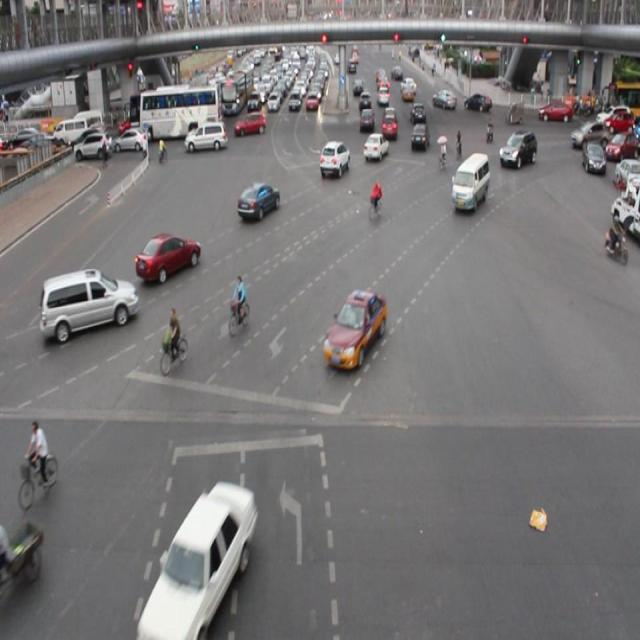car: (146, 484, 256, 628), (322, 288, 387, 370), (134, 230, 201, 284), (236, 180, 280, 223), (497, 130, 536, 171), (318, 140, 351, 179), (362, 131, 388, 164), (409, 123, 428, 151)
truck: (40, 266, 138, 338), (449, 152, 490, 211)
